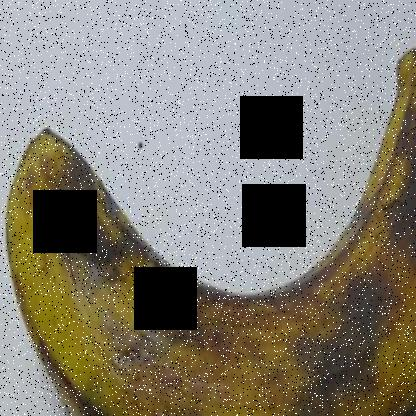overripe: (0, 34, 415, 415)
